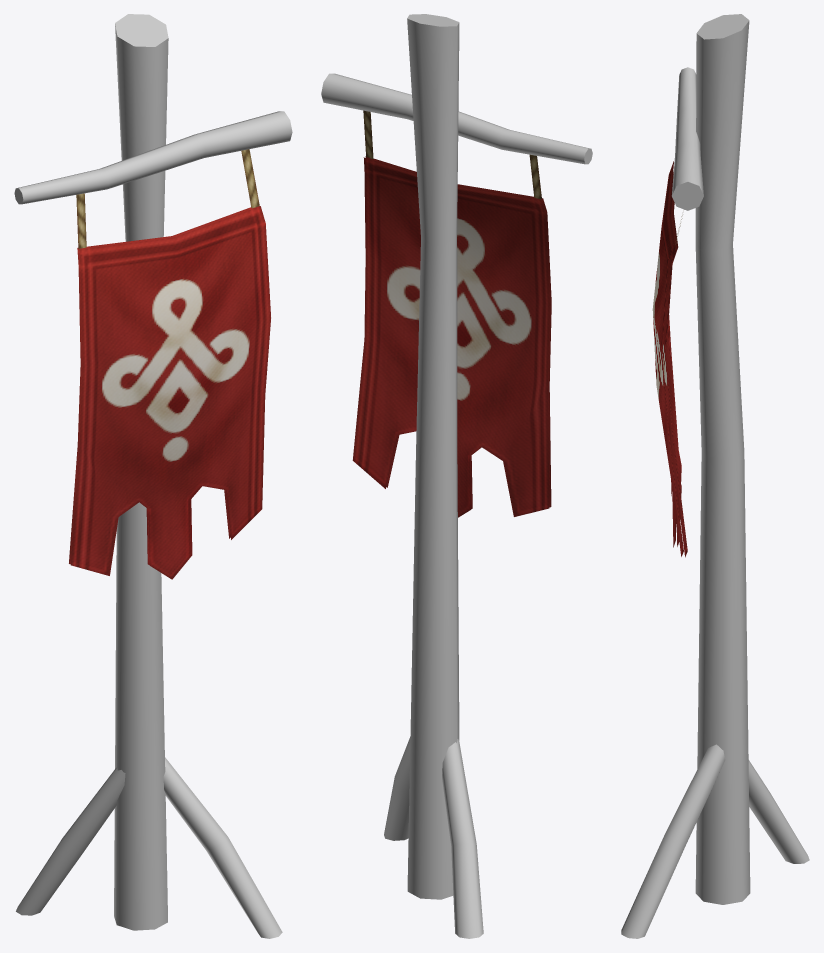
File: SV_AFT_qizhi_4.FBX
3 renders of one model, left to right at view 1: azimuth 30°, elevation 25°; view 2: azimuth 150°, elevation 25°; view 3: azimuth 270°, elevation 25°, orthographic. The views are drawn at different scales.
Parts seen in each view (by area): view 1: SV_AFT_qigan_4, SV_AFT_qigan_0; view 2: SV_AFT_qigan_0, SV_AFT_qigan_4; view 3: SV_AFT_qigan_0, SV_AFT_qigan_4.
Boxes of the visible parts, x1=… form: SV_AFT_qigan_4: x1=69, y1=149, x2=270, y2=579; SV_AFT_qigan_0: x1=14, y1=14, x2=292, y2=938; SV_AFT_qigan_0: x1=321, y1=14, x2=592, y2=938; SV_AFT_qigan_4: x1=352, y1=110, x2=551, y2=517; SV_AFT_qigan_0: x1=621, y1=14, x2=809, y2=938; SV_AFT_qigan_4: x1=652, y1=161, x2=687, y2=557.
Bounding box in the file's own units: 1.27 × 4.09 × 0.7992.
